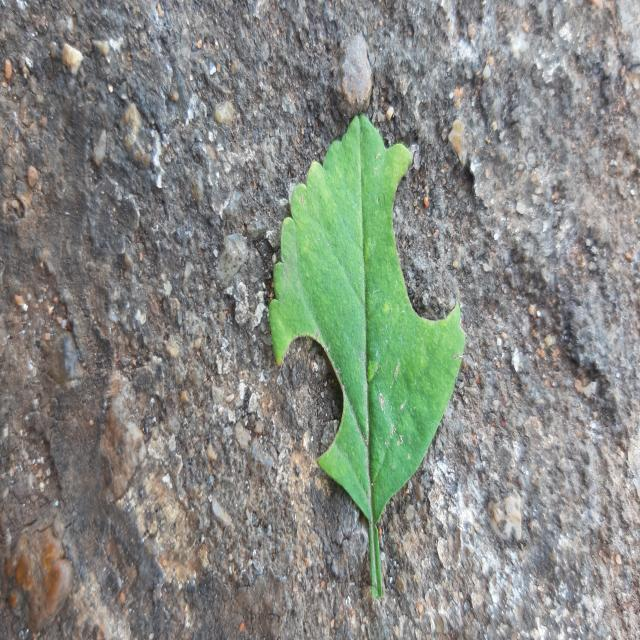tecoma: (270, 116, 465, 598)
